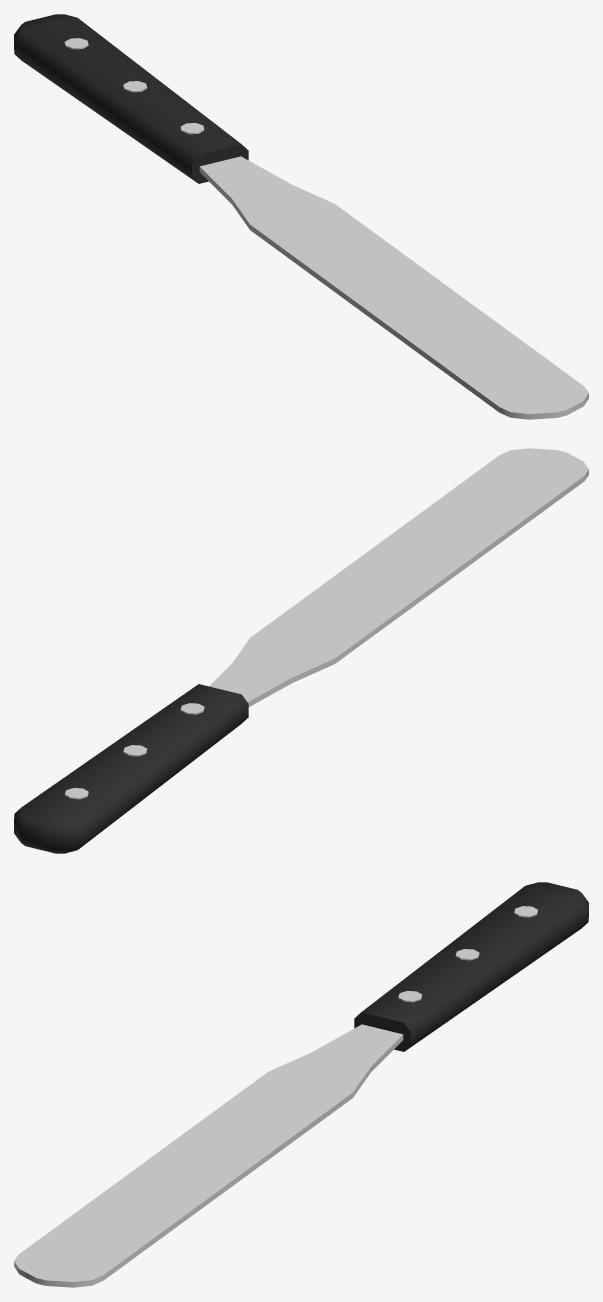
File: PaletteKnife_Straight_01.fbx
3 renders of one model, top to bottom at view 1: azimuth 30°, elevation 25°; view 2: azimuth 150°, elevation 25°; view 3: azimuth 330°, elevation 25°, orthographic.
Visible parts, largest first — view 1: PaletteKnife_Straight_01; view 2: PaletteKnife_Straight_01; view 3: PaletteKnife_Straight_01.
Boxes of the visible parts, x1=… form: PaletteKnife_Straight_01: x1=14, y1=14, x2=588, y2=419; PaletteKnife_Straight_01: x1=14, y1=448, x2=588, y2=853; PaletteKnife_Straight_01: x1=14, y1=882, x2=588, y2=1287.
Bounding box in the file's own units: 0.0283 × 0.0104 × 0.3034.
